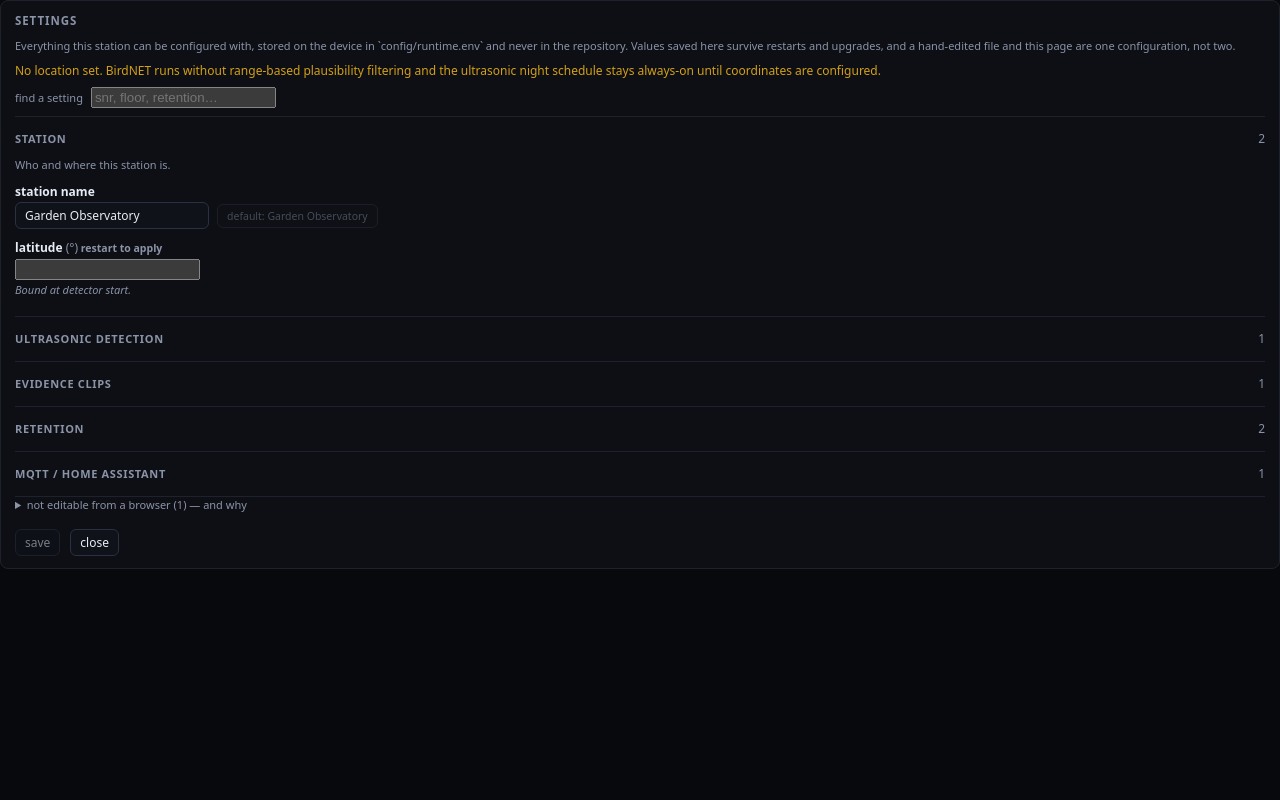
SettingsPanel › never renders a secret value and marks it as set via placeholder
Click the button "MQTT / Home Assistant 1": point(90, 473) [15,452,1265,488]
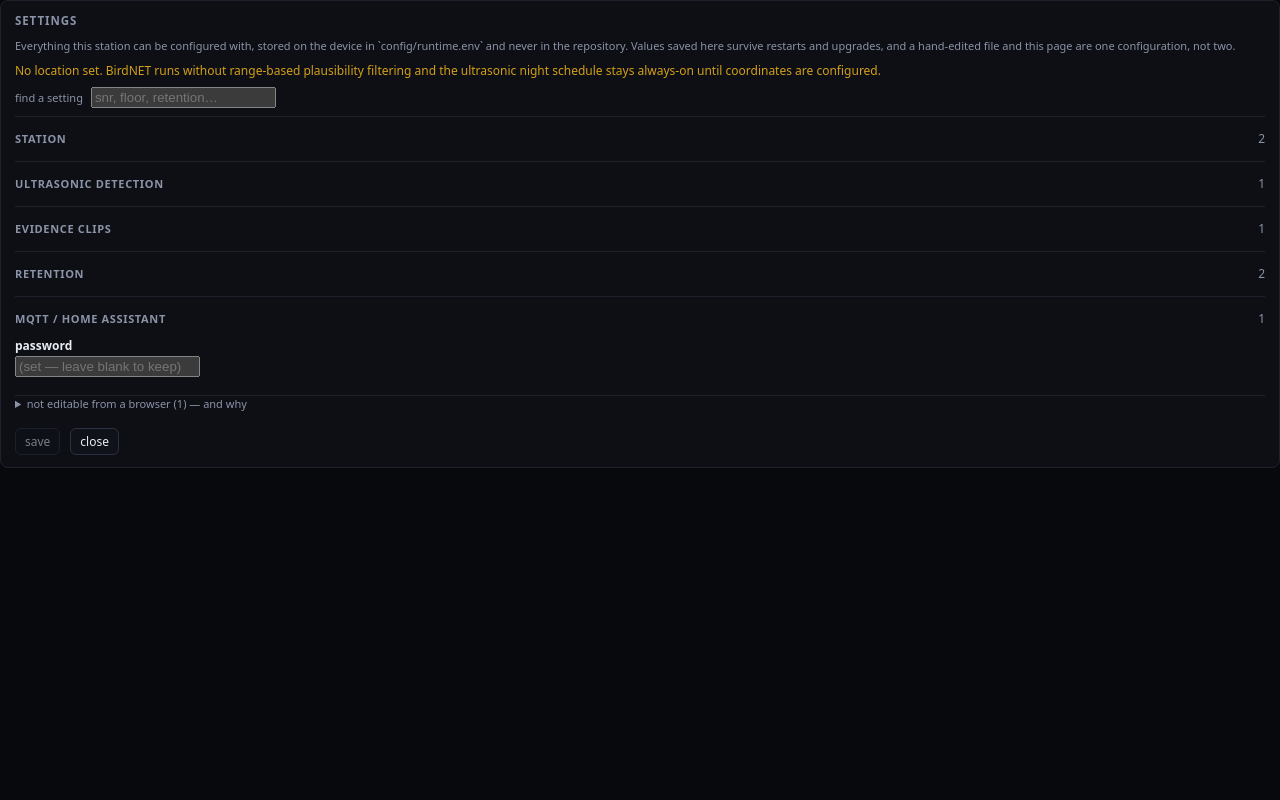
Check: the password field with placeholder "(set — leave blank to keep)" is shown, box [15,356,200,377]
